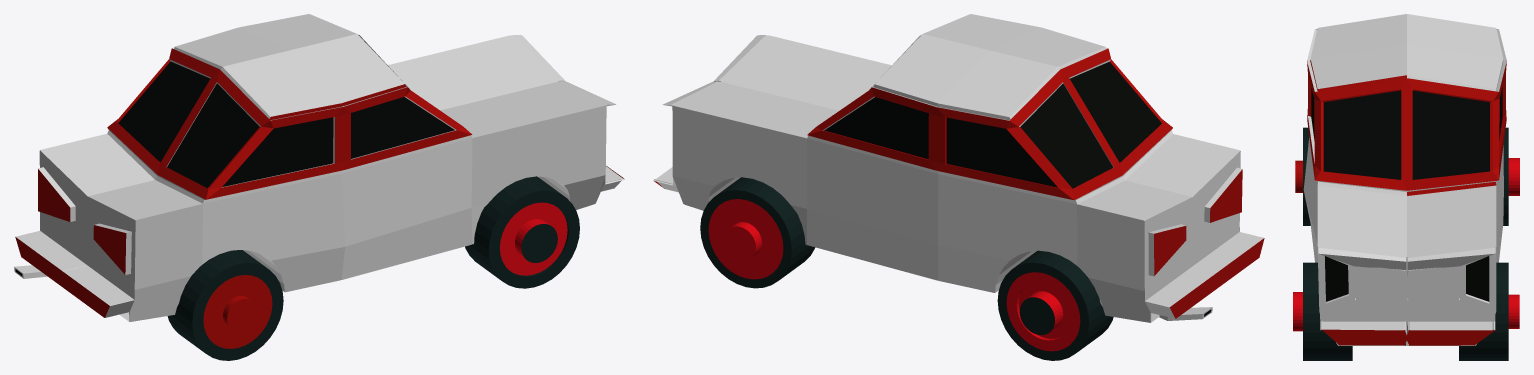
3 renders of one model, left to right at view 1: azimuth 30°, elevation 25°; view 2: azimuth 150°, elevation 25°; view 3: azimuth 270°, elevation 25°, orthographic. The views are drawn at different scales.
Parts seen in each view (by area): view 1: Cube, Cylinder.001, Cylinder.003; view 2: Cube, Cylinder.004, Cylinder.006; view 3: Cube, Cylinder.003, Cylinder.006, Cylinder.004, Cylinder.001.
Boxes of the visible parts, x1=… form: Cube: x1=14, y1=14, x2=624, y2=321; Cylinder.001: x1=167, y1=250, x2=283, y2=360; Cylinder.003: x1=465, y1=176, x2=579, y2=288; Cube: x1=653, y1=14, x2=1264, y2=322; Cylinder.004: x1=997, y1=250, x2=1113, y2=360; Cylinder.006: x1=700, y1=177, x2=815, y2=288; Cube: x1=1303, y1=14, x2=1506, y2=345; Cylinder.003: x1=1293, y1=262, x2=1352, y2=360; Cylinder.006: x1=1459, y1=262, x2=1519, y2=360; Cylinder.004: x1=1503, y1=127, x2=1519, y2=225; Cylinder.001: x1=1295, y1=127, x2=1310, y2=225.
Size of the model in its own units: 2.38 by 1.03 by 0.9388.
